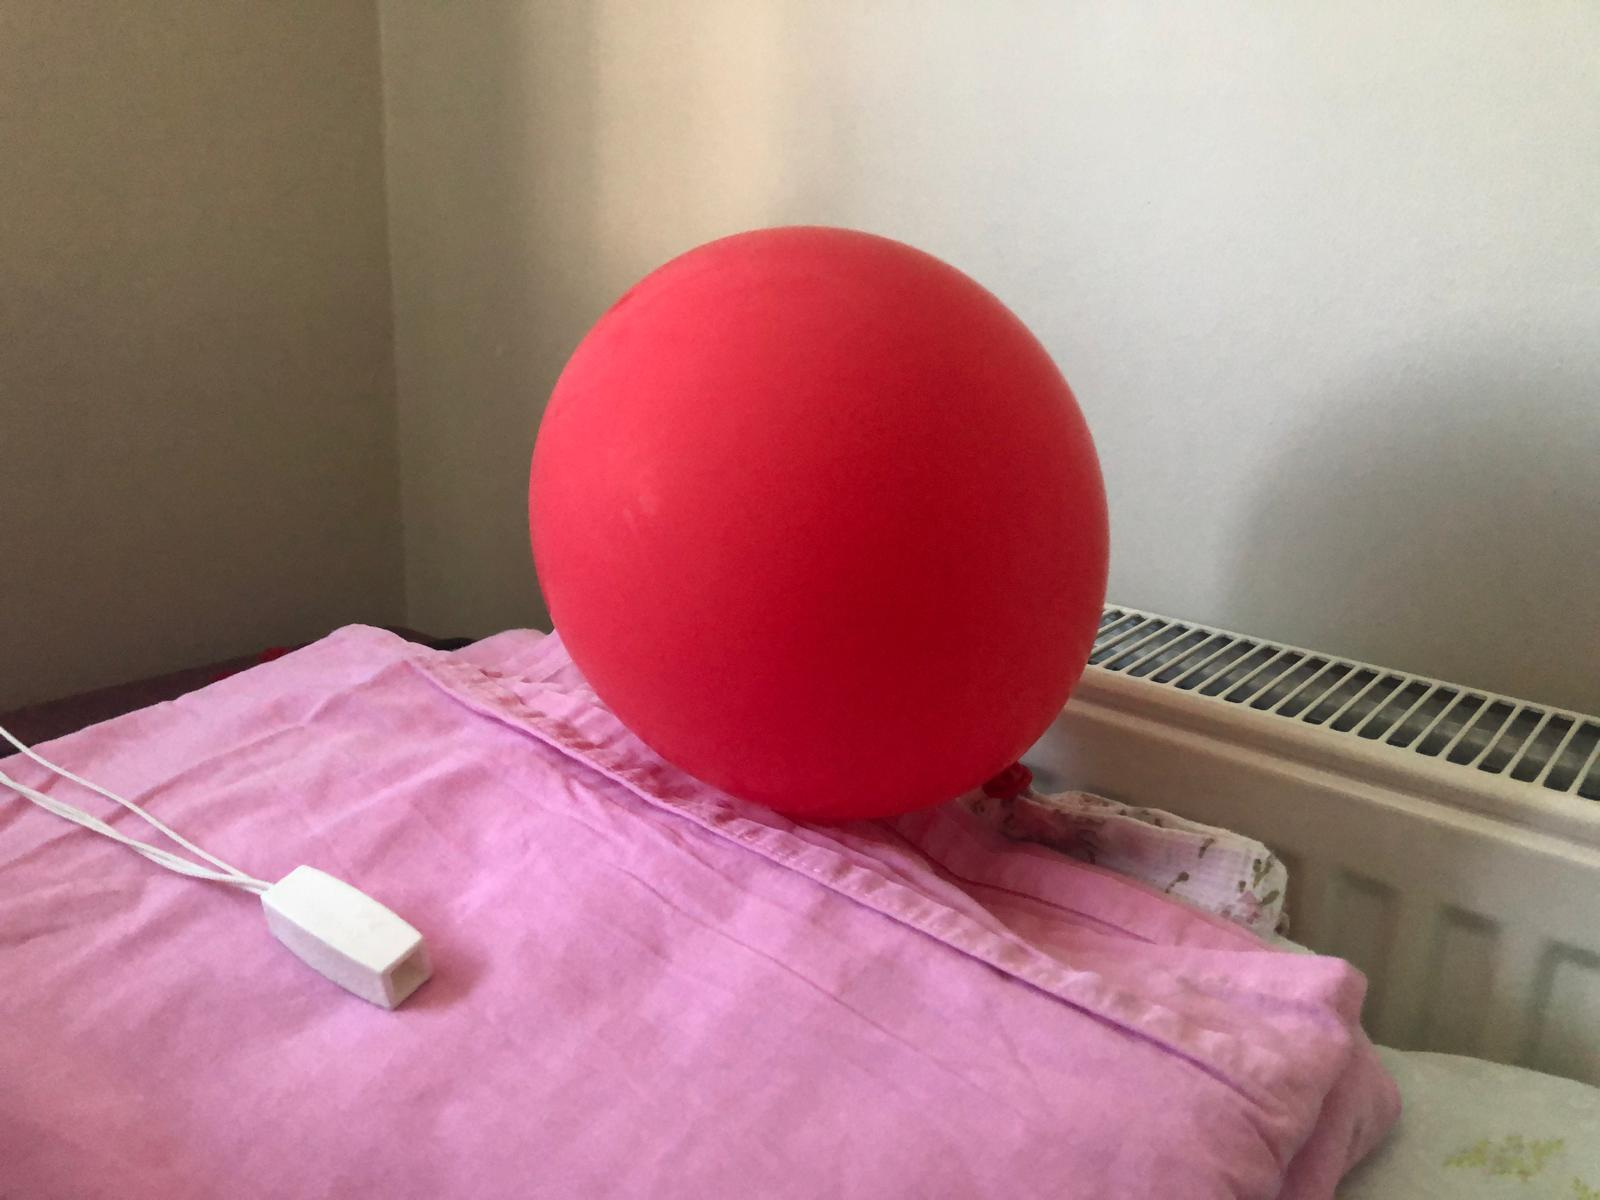red: (533, 221, 1107, 821)
